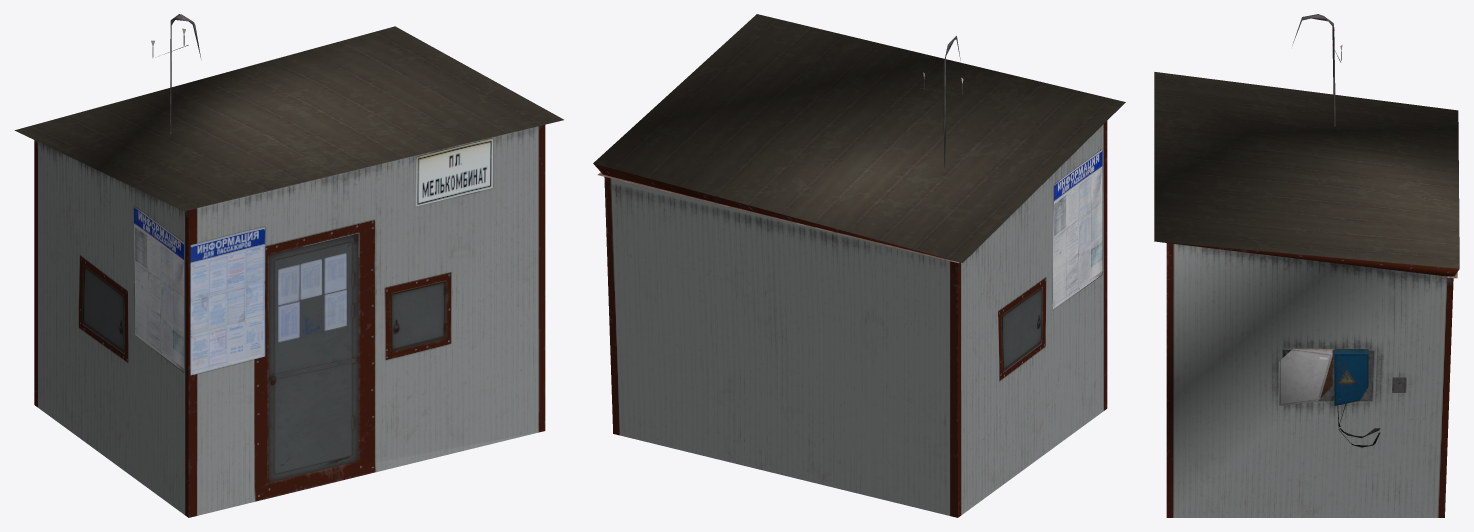
File: kiosk.fbx
The picture shows the model from 3 angles, left to right: view 1: azimuth 30°, elevation 25°; view 2: azimuth 150°, elevation 25°; view 3: azimuth 270°, elevation 25°; orthographic projection. The views are drawn at different scales.
Parts seen in each view (by area): view 1: booth_low001; view 2: booth_low001; view 3: booth_low001.
Boxes of the visible parts, box(x1,y1,x2,y2) form: booth_low001: box(14, 14, 563, 517); booth_low001: box(593, 14, 1125, 517); booth_low001: box(1154, 14, 1459, 517).
Size of the model in its own units: 430 by 454 by 330.
1 material, 1 textured.
